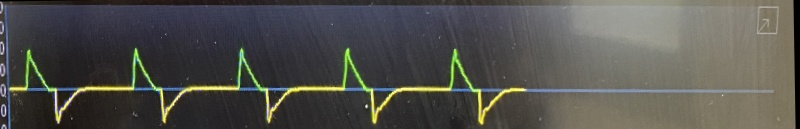normal_flow: (6, 39, 539, 129)
